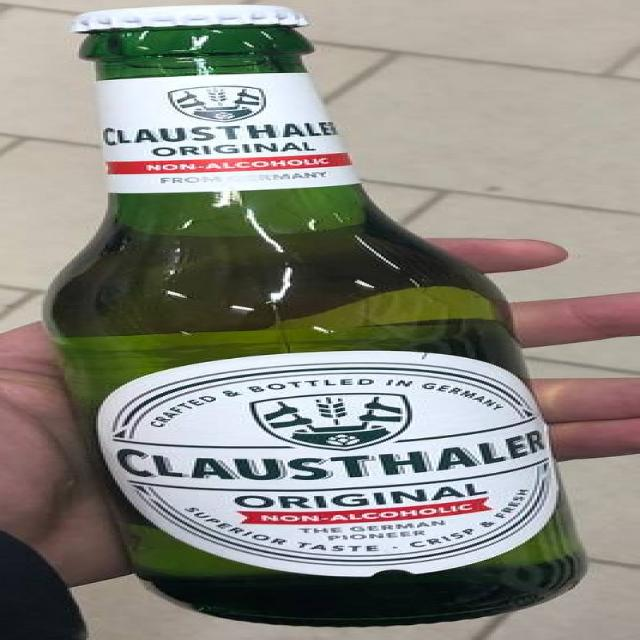Clausthaler Original Non-Alcoholic: (0, 1, 640, 640)
